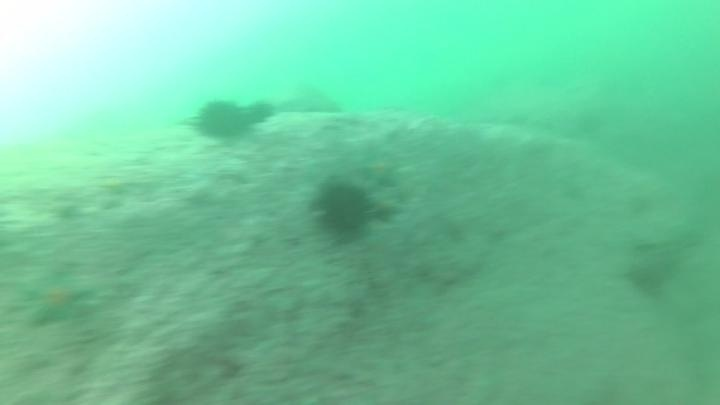echinus: (309, 176, 377, 244), (190, 97, 251, 145), (623, 257, 671, 300), (242, 97, 278, 130)
starfish: (17, 267, 97, 332), (355, 147, 404, 191), (350, 197, 395, 235)
